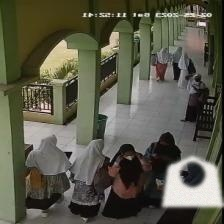Mukena: (162, 156, 222, 206)
